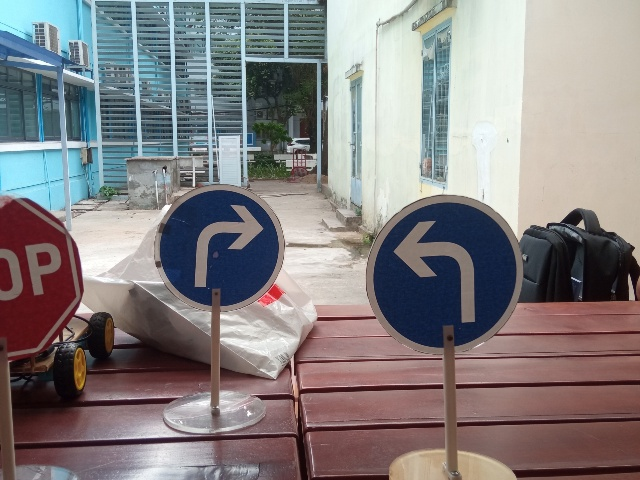Left_Sign: (365, 195, 523, 355)
Right_Sign: (153, 184, 285, 313)
Stop_Sign: (0, 191, 83, 358)
